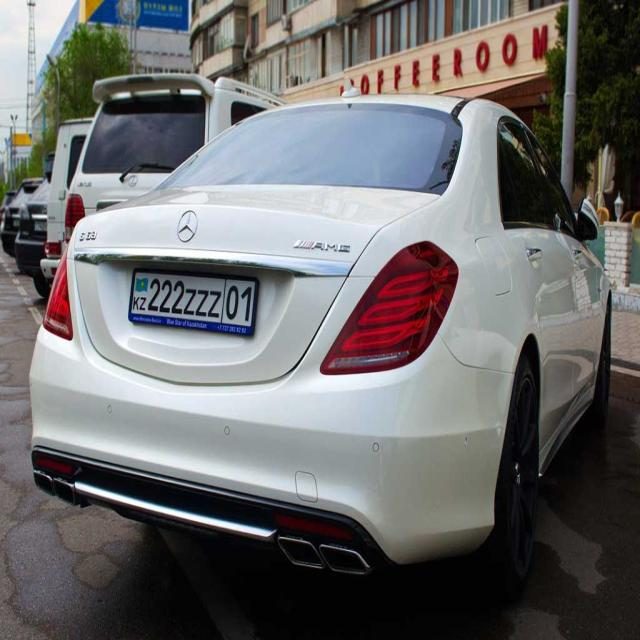car: (28, 79, 613, 600)
license: (128, 267, 258, 336)
